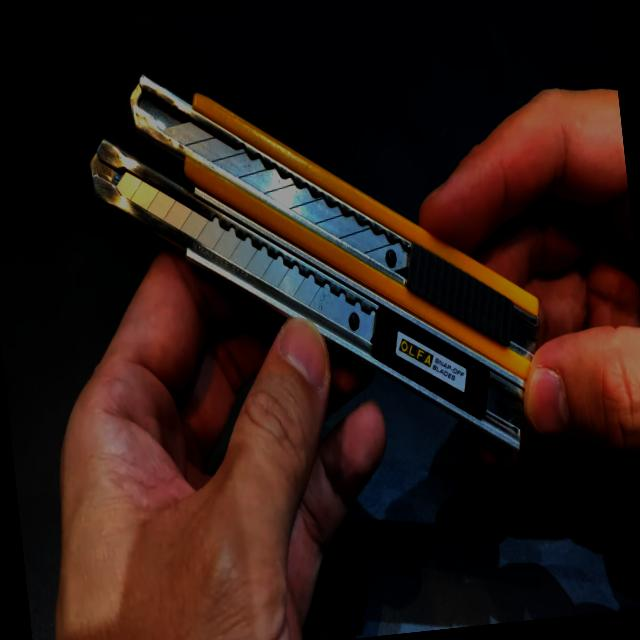cutter: (37, 0, 640, 606)
